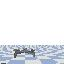drone: (13, 48, 35, 58)
